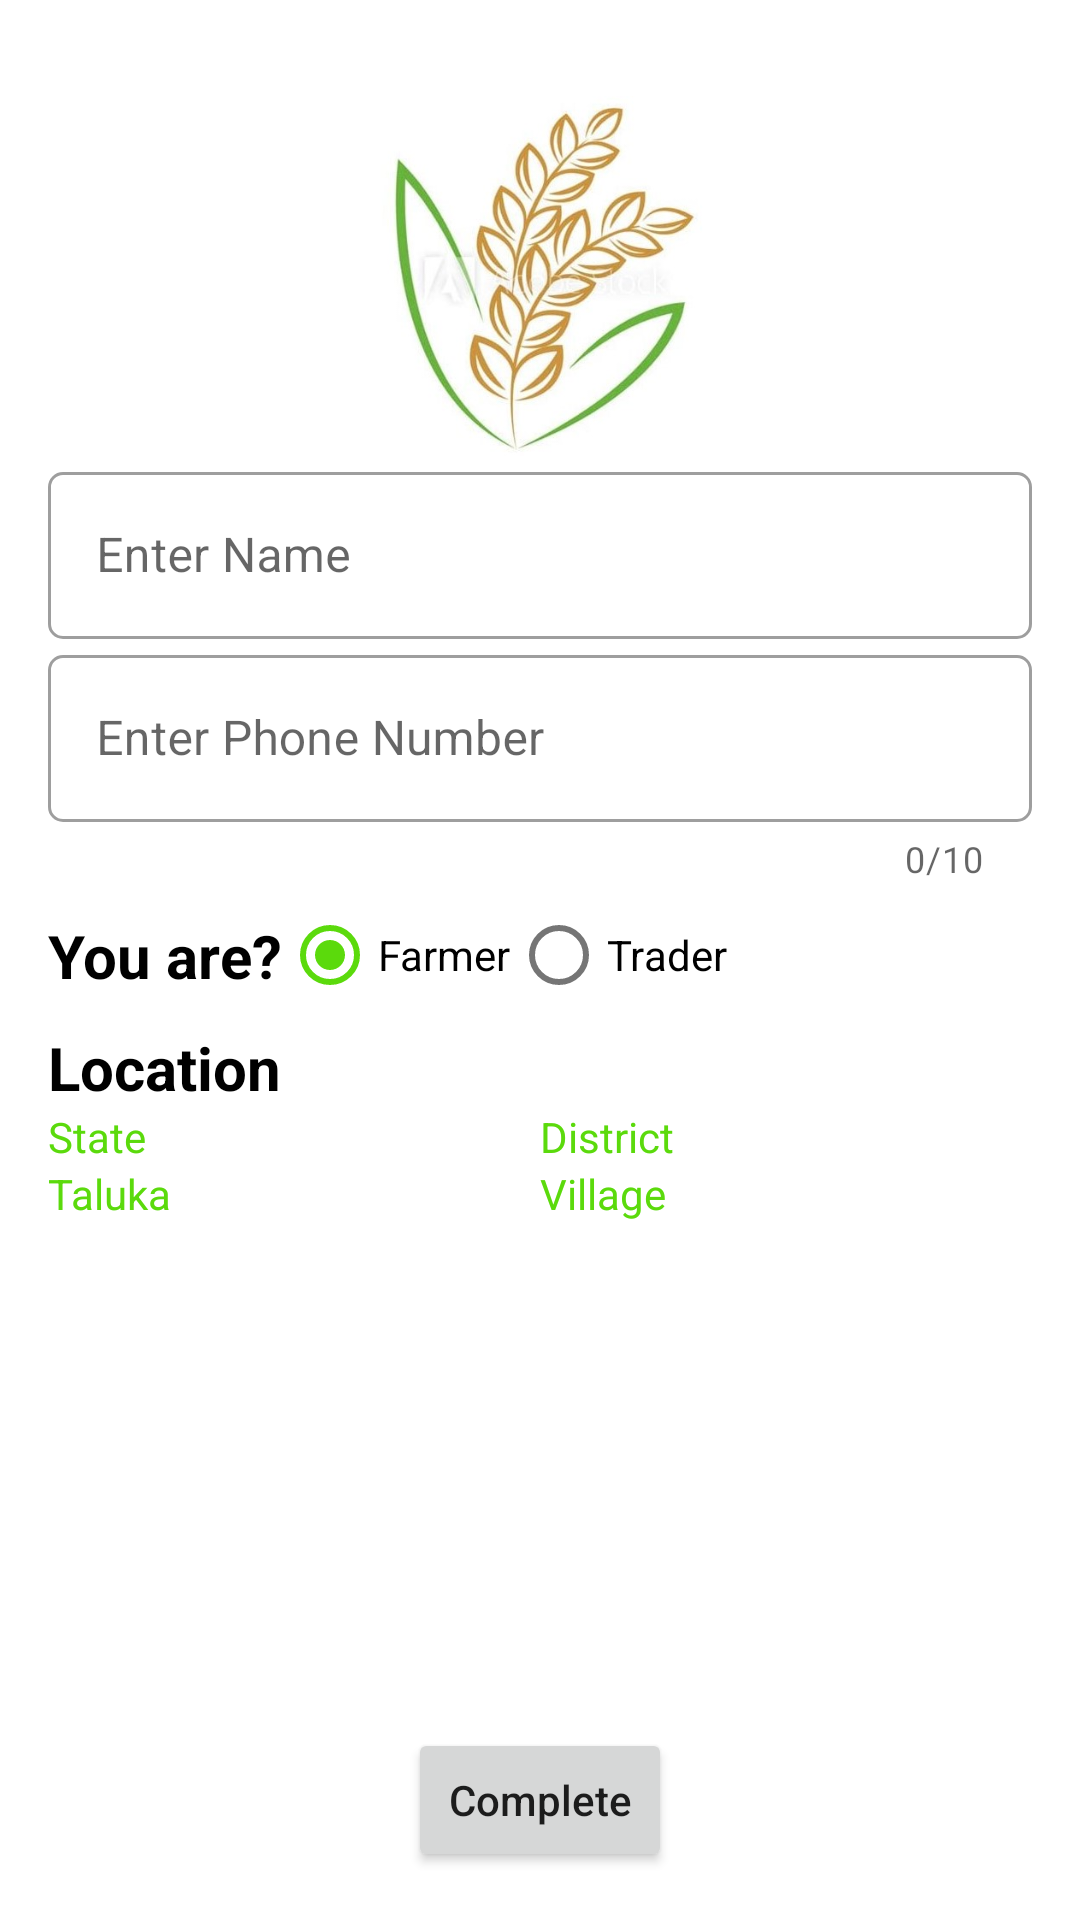

Icon bounding boxes for this 1080 x 1920 phone screenshot, format (x1, y1, x2, y2):
Farm Image: (394, 107, 694, 449)
